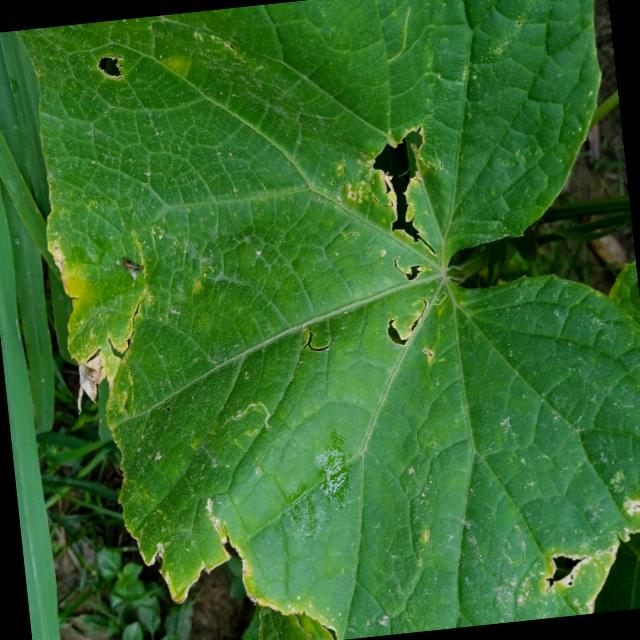cucumber_anthracnose: (53, 0, 640, 640)
